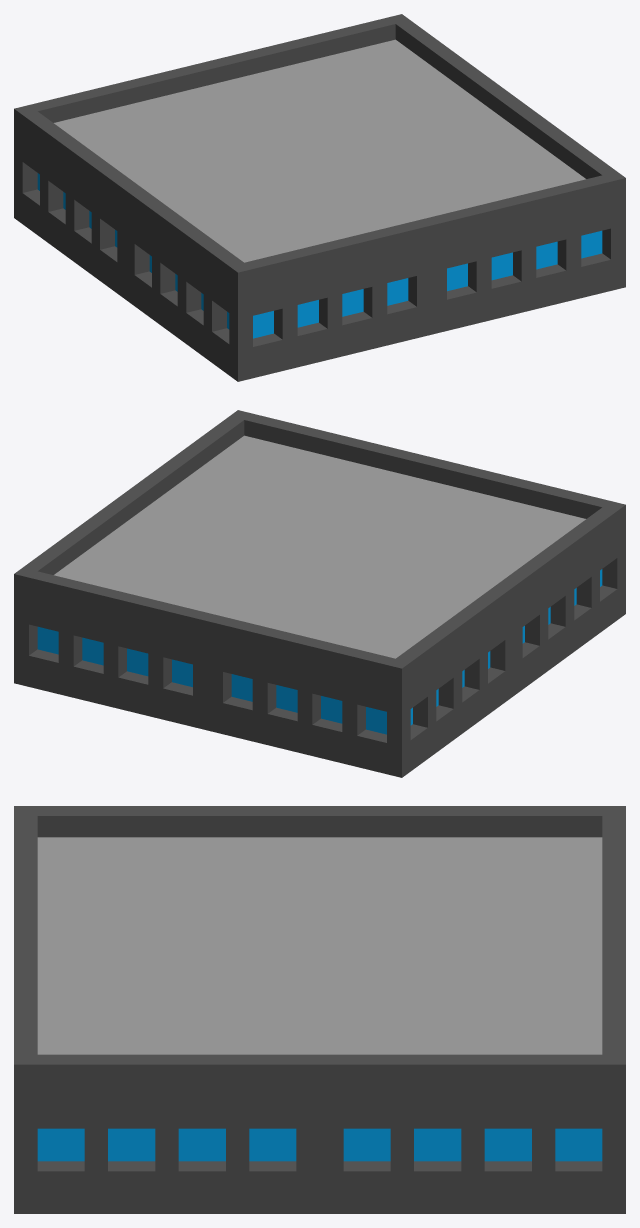
The model's file is tall_top1.obj.
3 views of the same model, one above another, from view 1: azimuth 30°, elevation 25°; view 2: azimuth 150°, elevation 25°; view 3: azimuth 270°, elevation 25° (orthographic). The views are drawn at different scales.
Size of the model in its own units: 2.6 by 0.7 by 2.6.
Materials: 1 (1 with a texture image).
